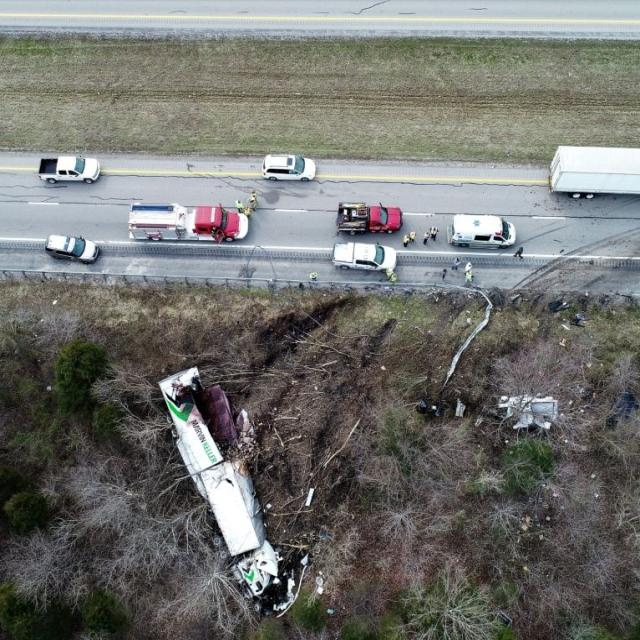traffic_incident: (147, 367, 308, 621)
